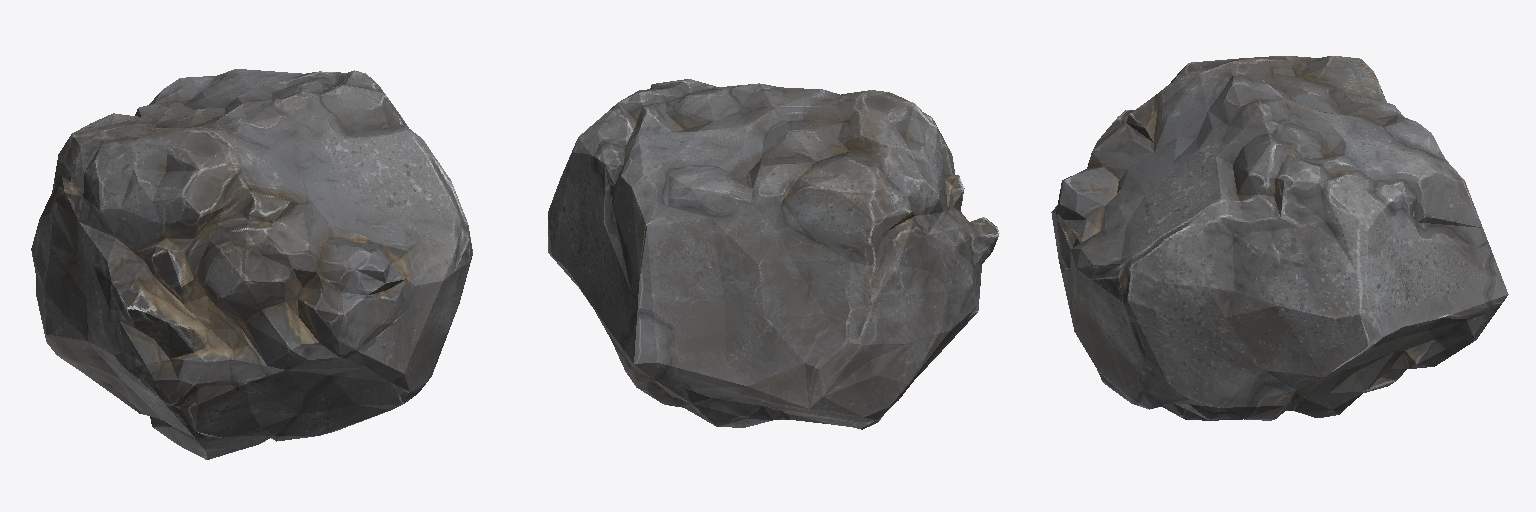
3 renders of one model, left to right at view 1: azimuth 30°, elevation 25°; view 2: azimuth 150°, elevation 25°; view 3: azimuth 270°, elevation 25°, orthographic.
Visible parts, largest first — view 1: rock_low.002_Group58368.002; view 2: rock_low.002_Group58368.002; view 3: rock_low.002_Group58368.002.
Boxes of the visible parts, <box> form: rock_low.002_Group58368.002: <box>31,69,472,459</box>; rock_low.002_Group58368.002: <box>548,79,999,429</box>; rock_low.002_Group58368.002: <box>1051,56,1508,420</box>.
Bounding box in the file's own units: 1.78 × 1.51 × 1.96.
Materials: 1 (1 with a texture image).